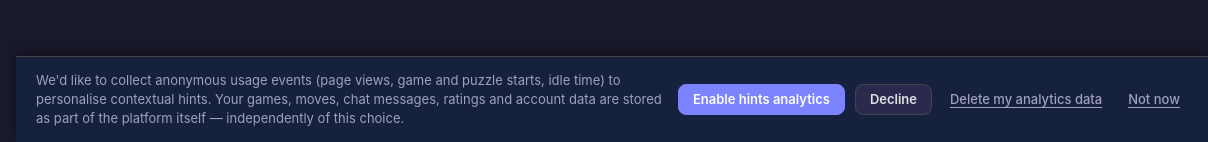
CookieBanner (KS-4698) › гость POST ошибка — показывается error
The image size is (1208, 142).
Click the button with test id "cookie-banner-guest-accept" at (761, 100), box [678, 84, 845, 115]
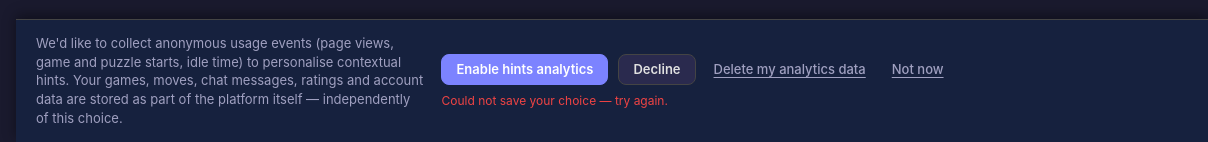
Result: the text "Could not save your choice — try again." is shown at [442, 93, 668, 108]
